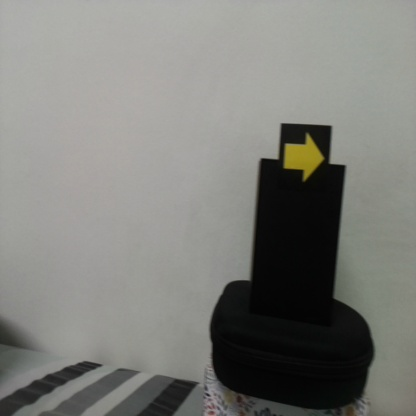id_3: (280, 124, 330, 191)
